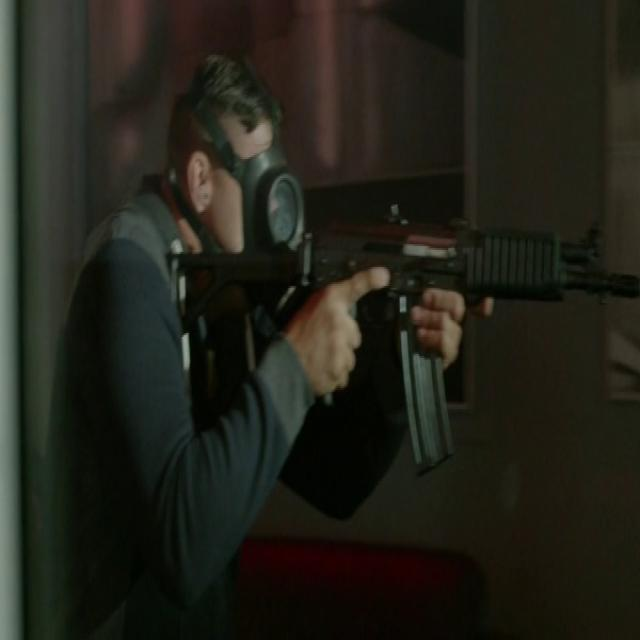rifle: (171, 167, 640, 481)
